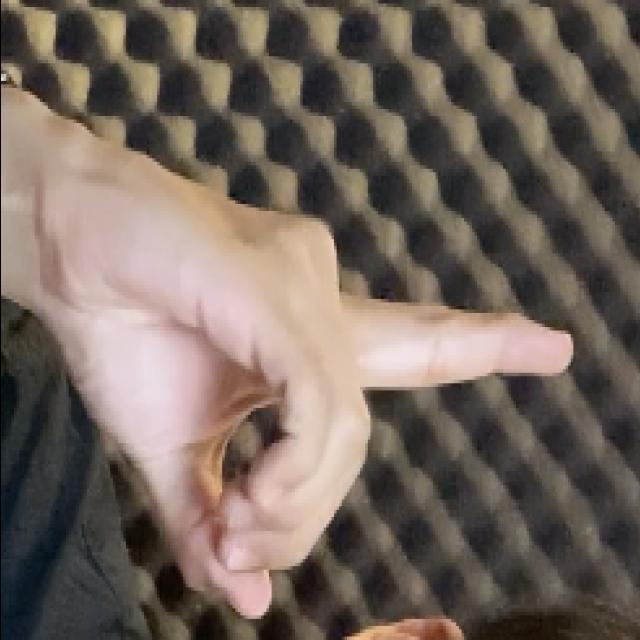D: (22, 100, 580, 635)
